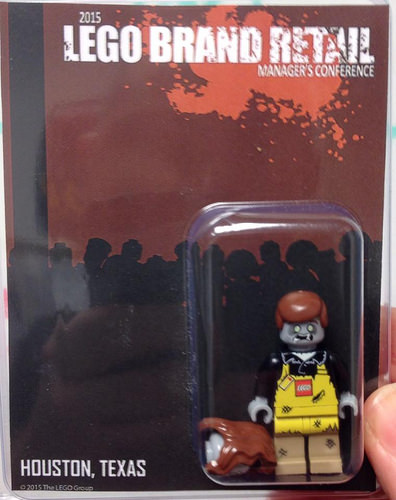lego: (255, 284, 360, 495)
